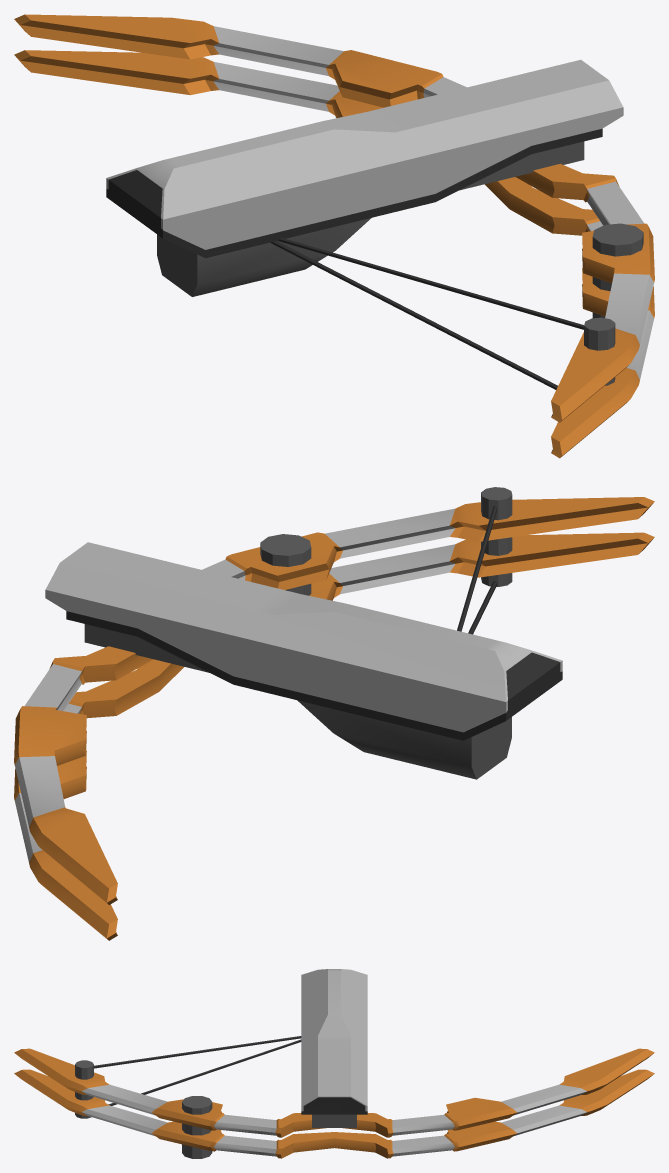
The model's file is Body_Crossbow_1.gltf.
3 views of the same model, one above another, from view 1: azimuth 30°, elevation 25°; view 2: azimuth 150°, elevation 25°; view 3: azimuth 270°, elevation 25° (orthographic). The views are drawn at different scales.
Parts seen in each view (by area): view 1: Body_Crossbow_1; view 2: Body_Crossbow_1; view 3: Body_Crossbow_1.
Boxes of the visible parts, x1=… form: Body_Crossbow_1: x1=14, y1=14, x2=654, y2=458; Body_Crossbow_1: x1=14, y1=487, x2=654, y2=940; Body_Crossbow_1: x1=14, y1=969, x2=654, y2=1158.
Size of the model in its own units: 0.9312 by 0.294 by 1.92.
